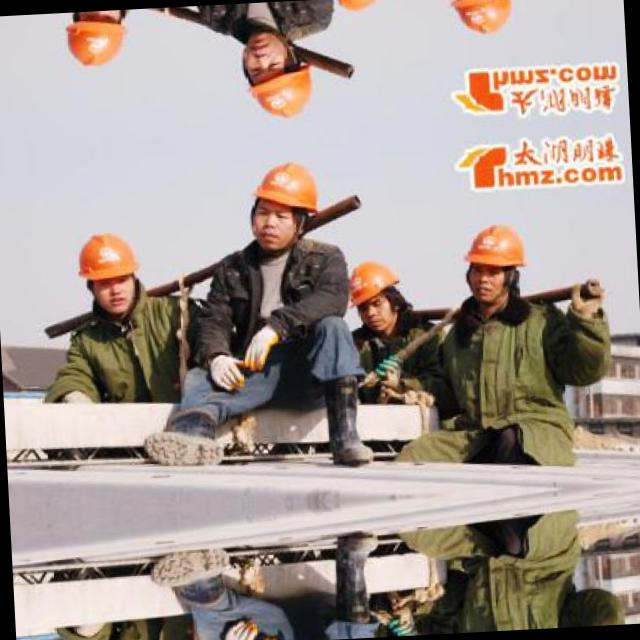helmet: (244, 154, 329, 262), (237, 19, 322, 127), (458, 216, 532, 306), (74, 225, 142, 318), (341, 255, 411, 336), (62, 10, 131, 76), (446, 0, 520, 44), (326, 0, 394, 18)
